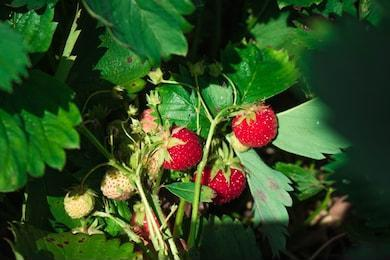Fresa: (230, 98, 284, 156), (155, 121, 206, 174), (205, 154, 250, 212)
